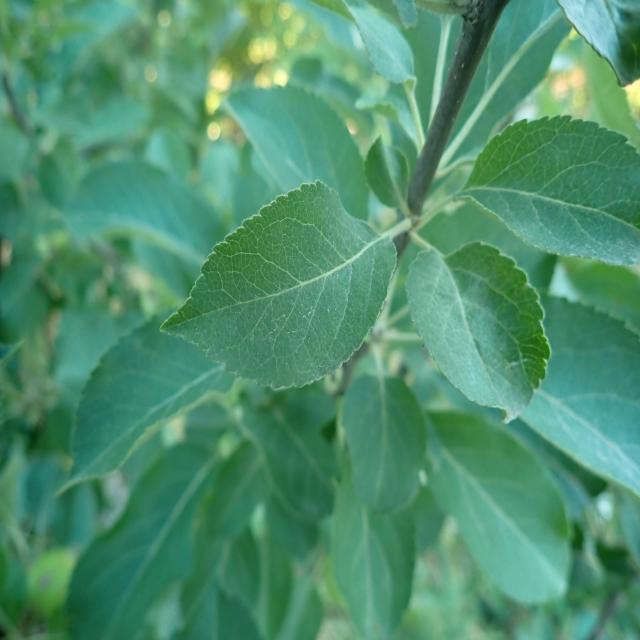healthy: (158, 179, 398, 391), (54, 316, 233, 498), (421, 409, 571, 605), (454, 114, 640, 268), (405, 240, 550, 425), (519, 291, 640, 499), (220, 83, 370, 225), (330, 481, 417, 639), (338, 371, 428, 514)
